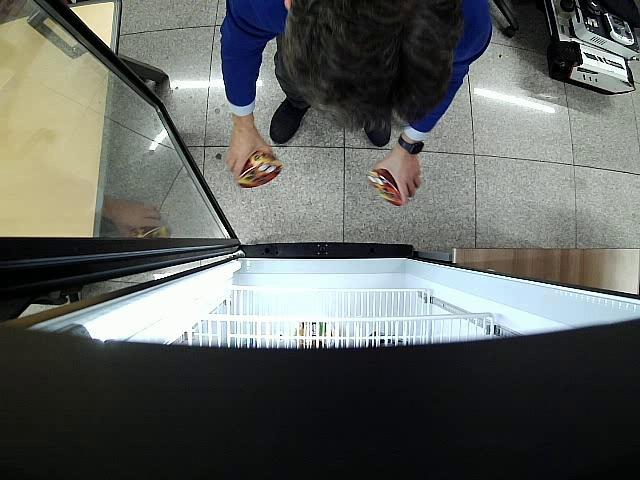05_nuguri_L: (236, 151, 282, 189), (368, 168, 402, 206)
